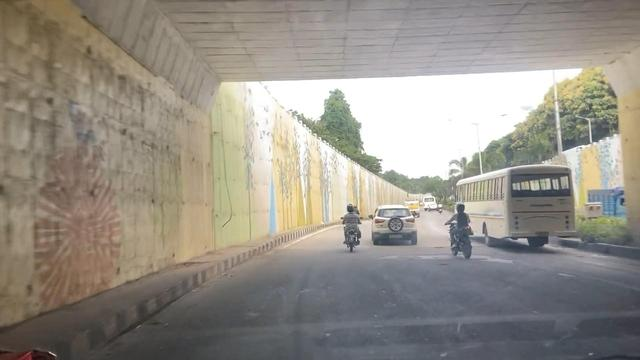HMV: (458, 168, 569, 238)
LMV: (373, 207, 413, 242), (448, 206, 477, 254), (343, 208, 363, 250)
RoadDamages: (397, 253, 516, 270)
